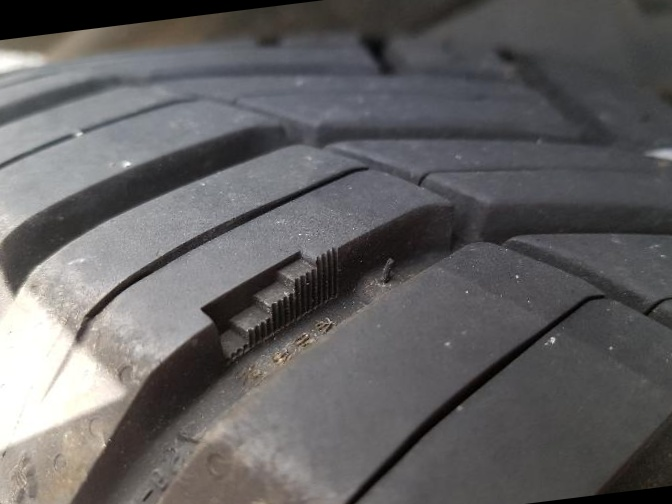temoin:90: (192, 236, 353, 375)
